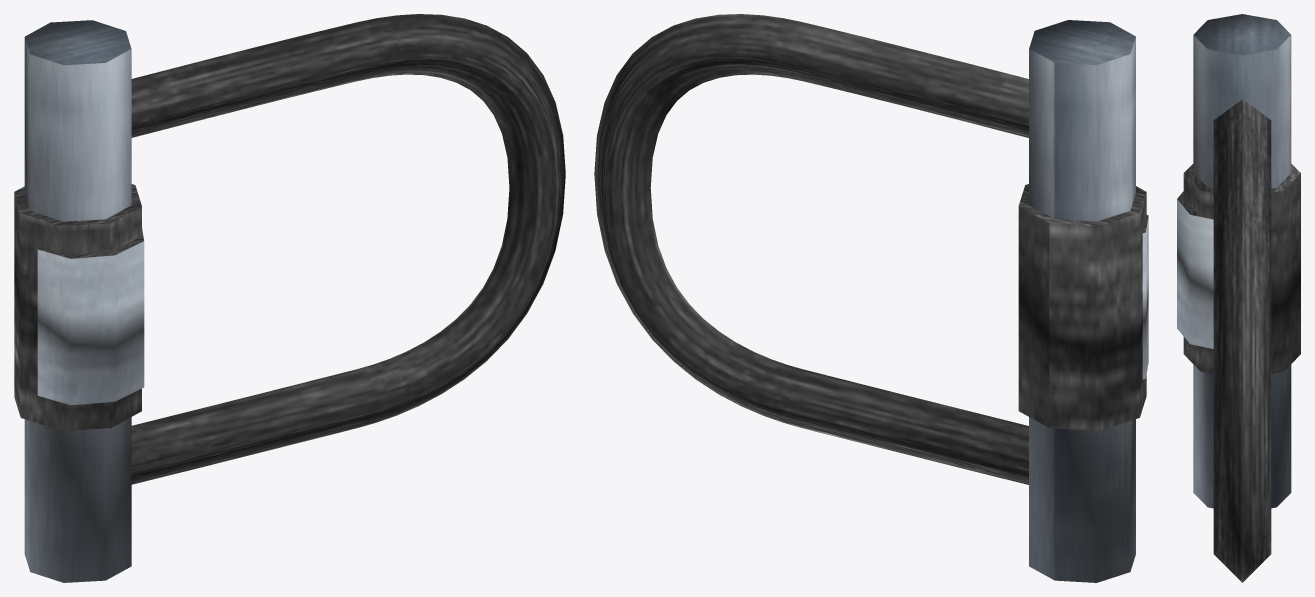
The model's file is Padlock.fbx.
3 views of the same model, side by side, from view 1: azimuth 30°, elevation 25°; view 2: azimuth 150°, elevation 25°; view 3: azimuth 270°, elevation 25° (orthographic). The views are drawn at different scales.
Visible parts, largest first — view 1: BézierCurve, Cylinder, Cylinder.002, Cylinder.001; view 2: BézierCurve, Cylinder, Cylinder.001, Cylinder.002; view 3: BézierCurve, Cylinder, Cylinder.001, Cylinder.002.
Boxes of the visible parts, bbox=[...] form: BézierCurve: bbox=[131, 14, 565, 484]; Cylinder: bbox=[24, 20, 131, 582]; Cylinder.002: bbox=[37, 228, 144, 405]; Cylinder.001: bbox=[14, 184, 141, 430]; BézierCurve: bbox=[594, 14, 1028, 484]; Cylinder: bbox=[1029, 20, 1135, 582]; Cylinder.001: bbox=[1018, 184, 1146, 430]; Cylinder.002: bbox=[1142, 215, 1148, 379]; BézierCurve: bbox=[1213, 99, 1271, 582]; Cylinder: bbox=[1193, 14, 1291, 508]; Cylinder.001: bbox=[1183, 164, 1300, 373]; Cylinder.002: bbox=[1177, 191, 1213, 348].
Size of the model in its own units: 45.81 by 41.57 by 10.18.
